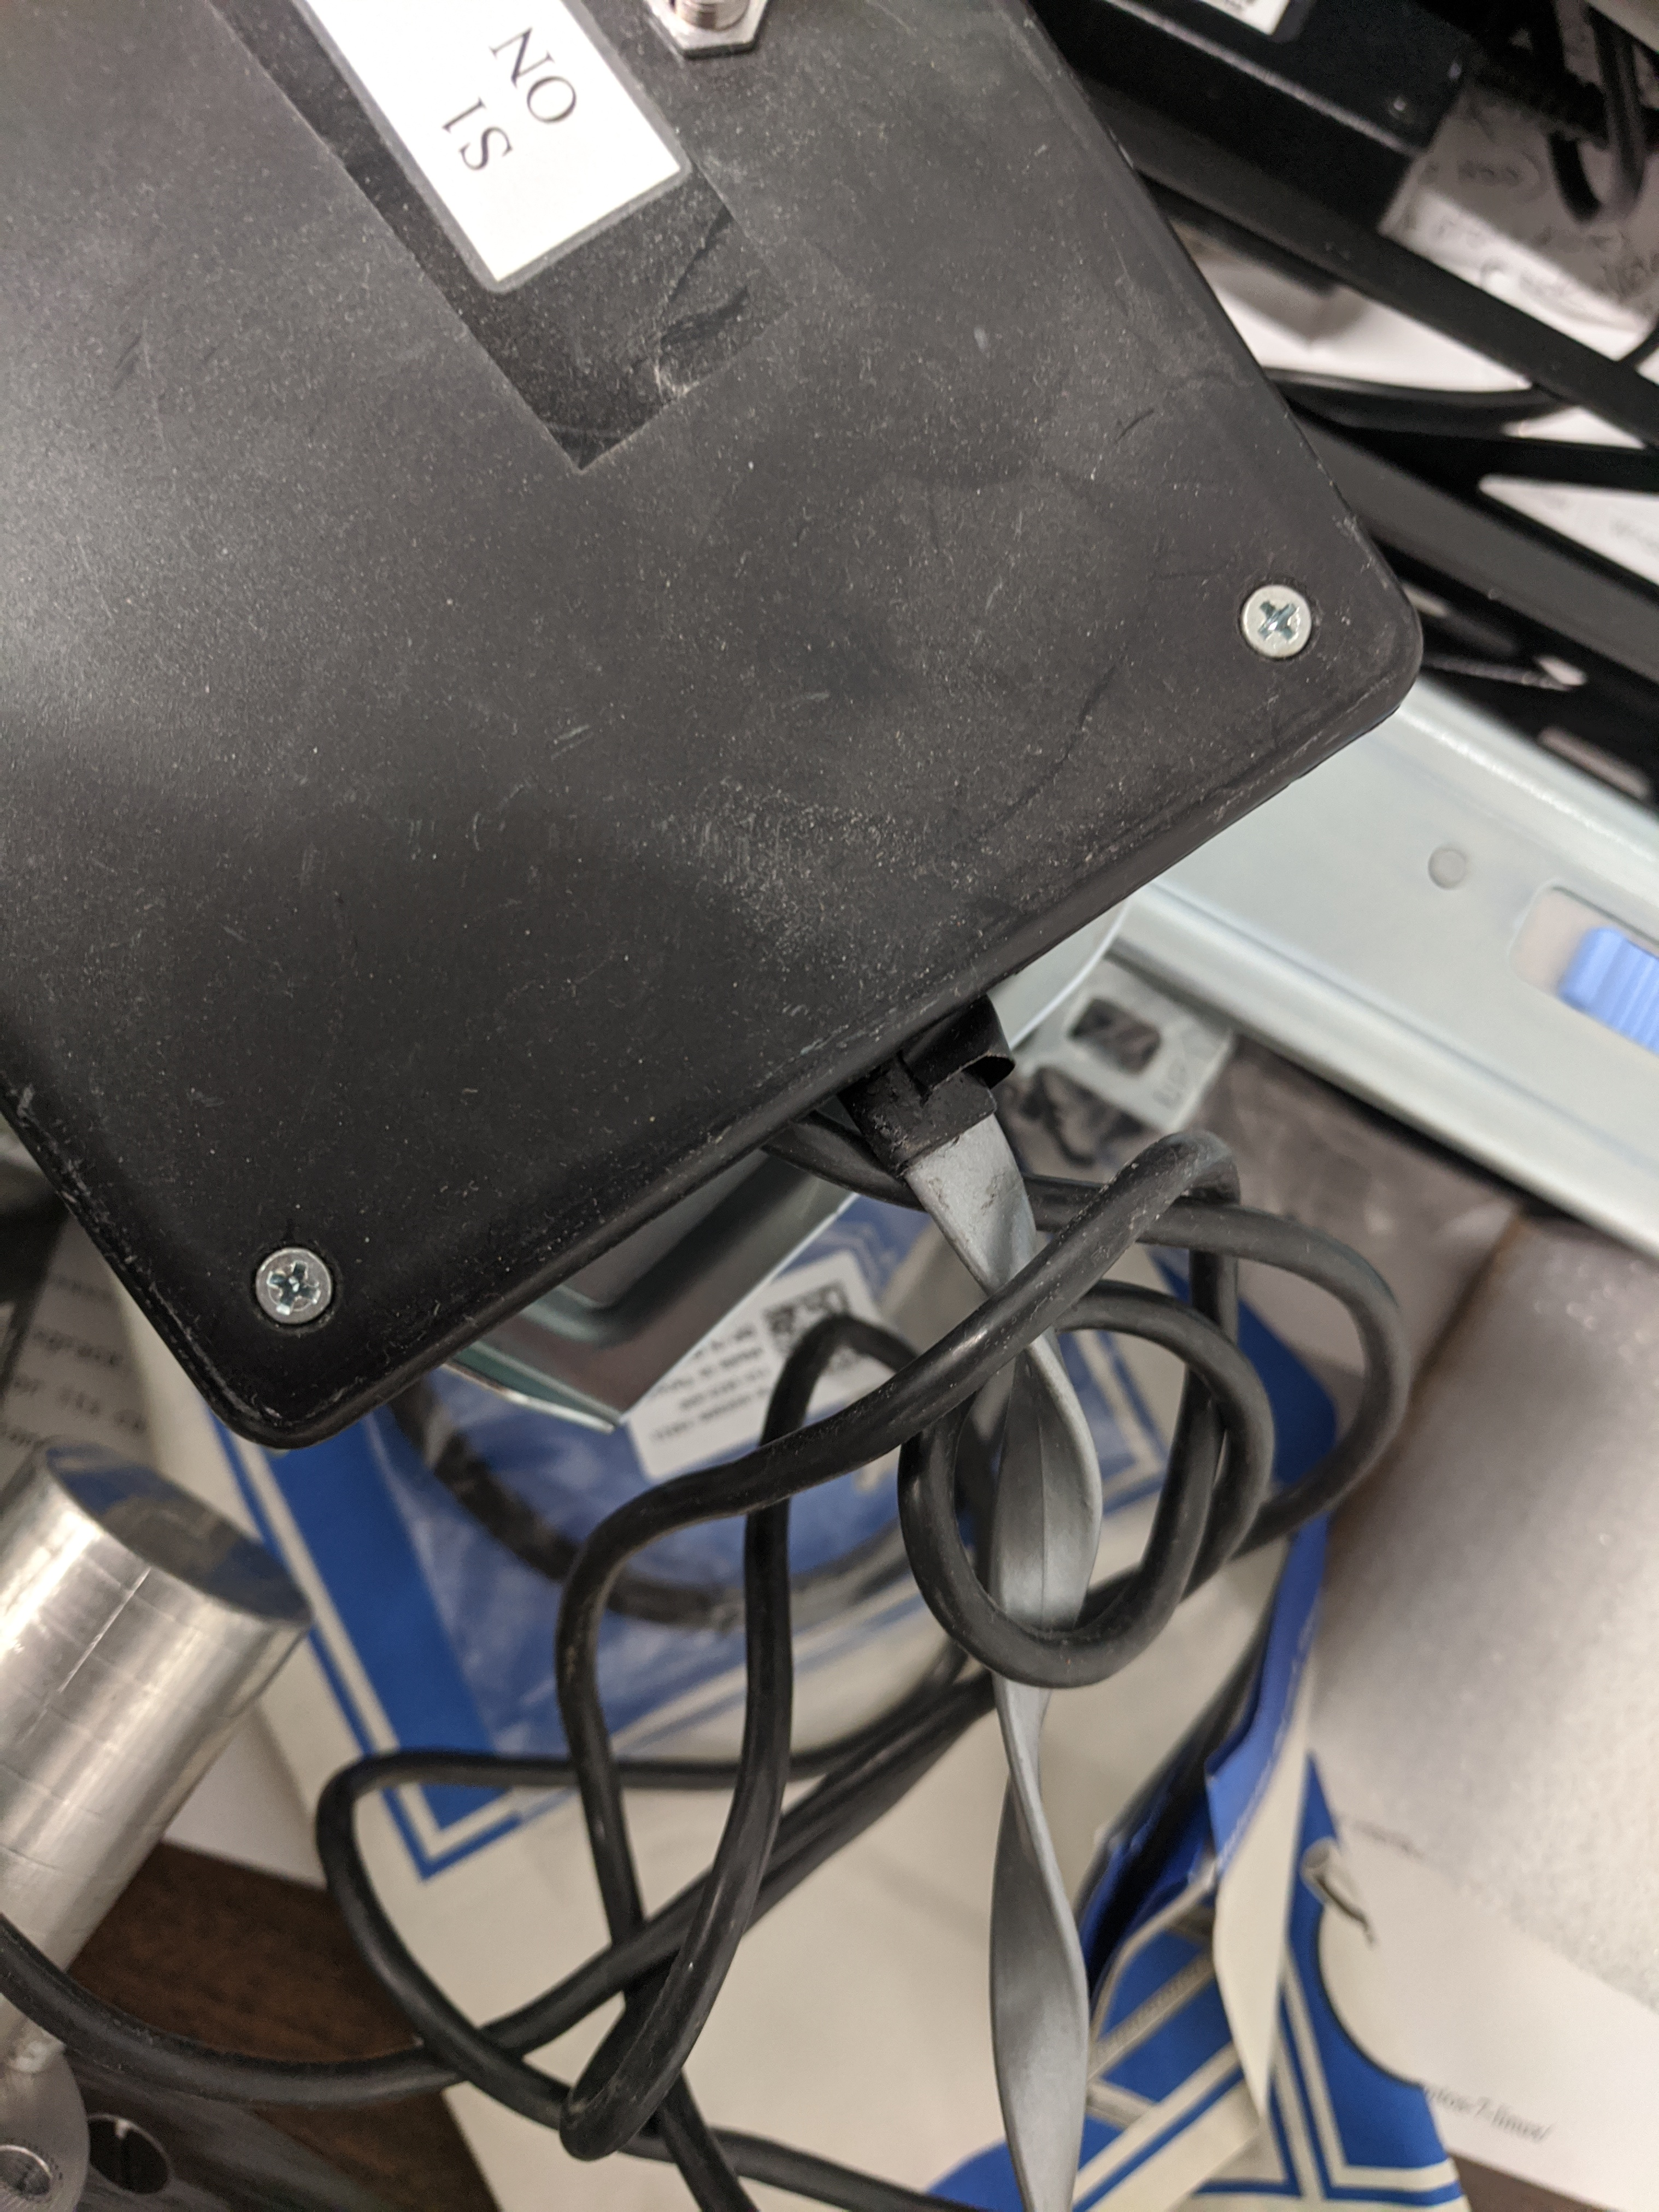cross_recessed_screw: (240, 1238, 331, 1331), (1234, 573, 1309, 648)
